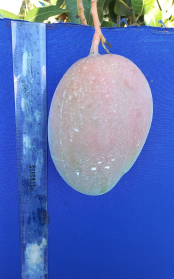Mango-sano: (48, 54, 152, 195)
